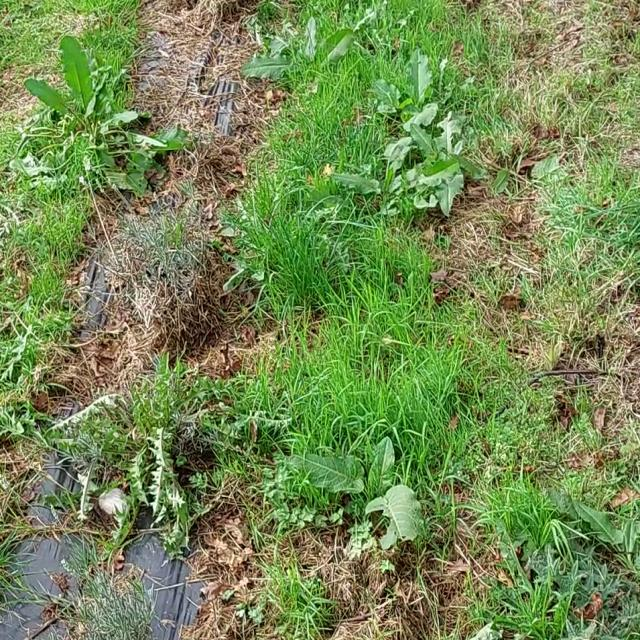organic waste: (19, 45, 161, 204), (296, 407, 440, 548), (387, 121, 502, 224), (348, 51, 465, 142), (232, 9, 343, 90)
